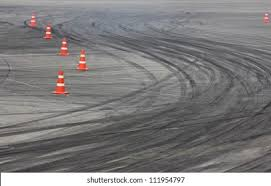cone: (52, 67, 71, 98), (56, 37, 69, 56), (76, 51, 88, 71), (44, 24, 53, 40), (28, 12, 37, 28)
